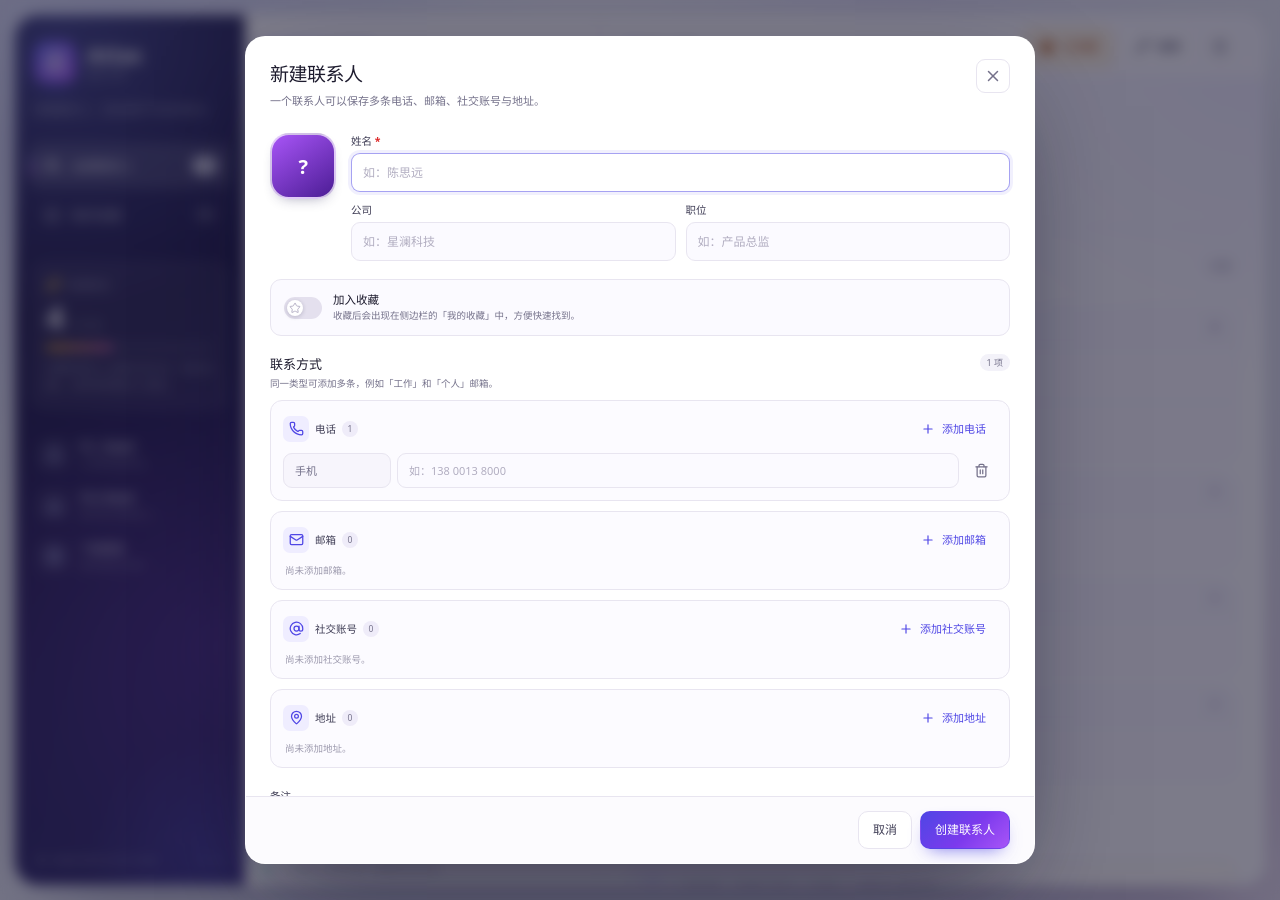
Test case: Atlas address book › creates a contact with a multi-value phone list and persists it
Earlier steps of the test are not shown.
Expected: the heading "新建联系人" is shown, [270, 61, 363, 87]
Type "测试同学" into the field labelled "姓名 *" at [680, 173], box [351, 153, 1010, 192]
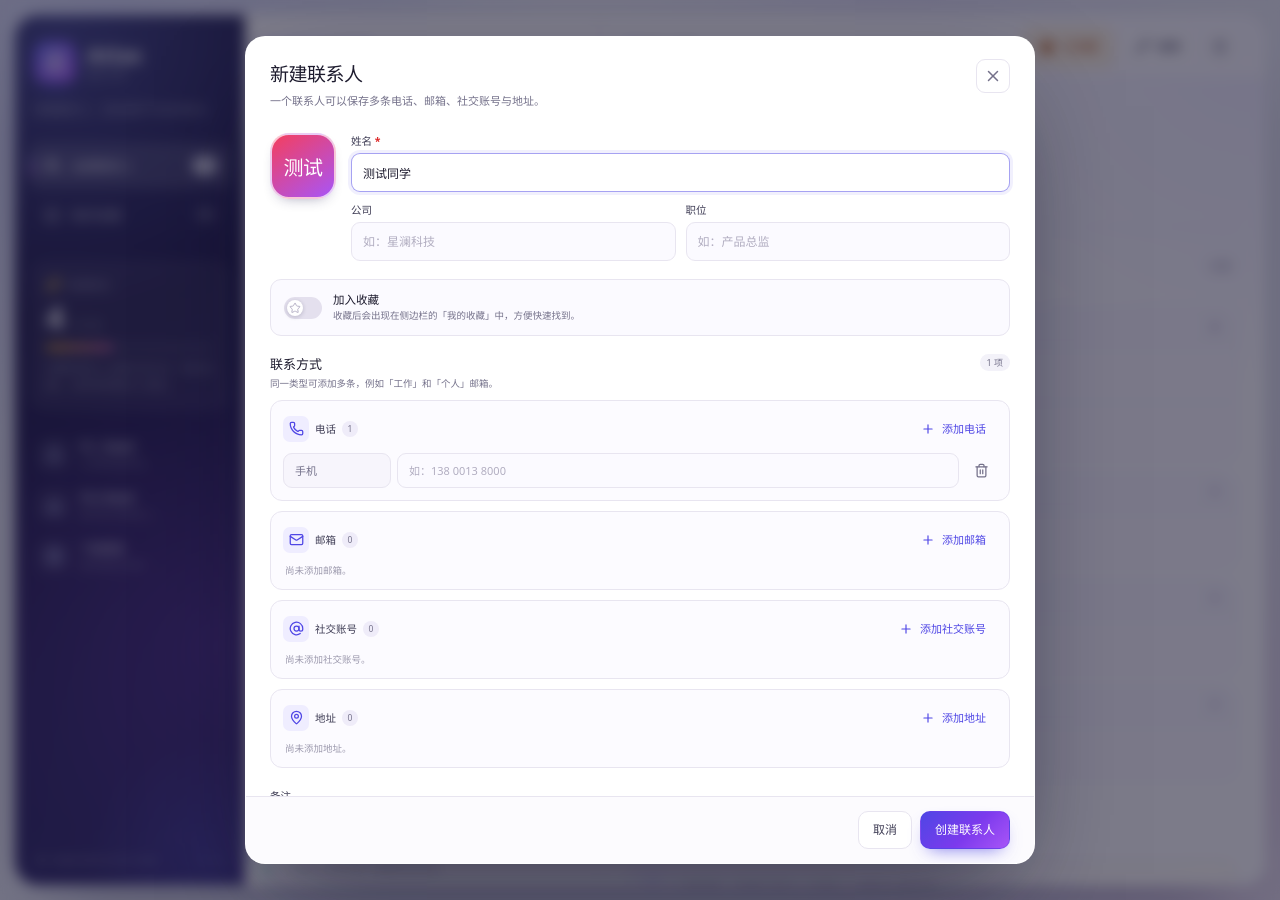
Type "测试公司" into the field labelled "公司" at [513, 242], box [351, 222, 676, 261]
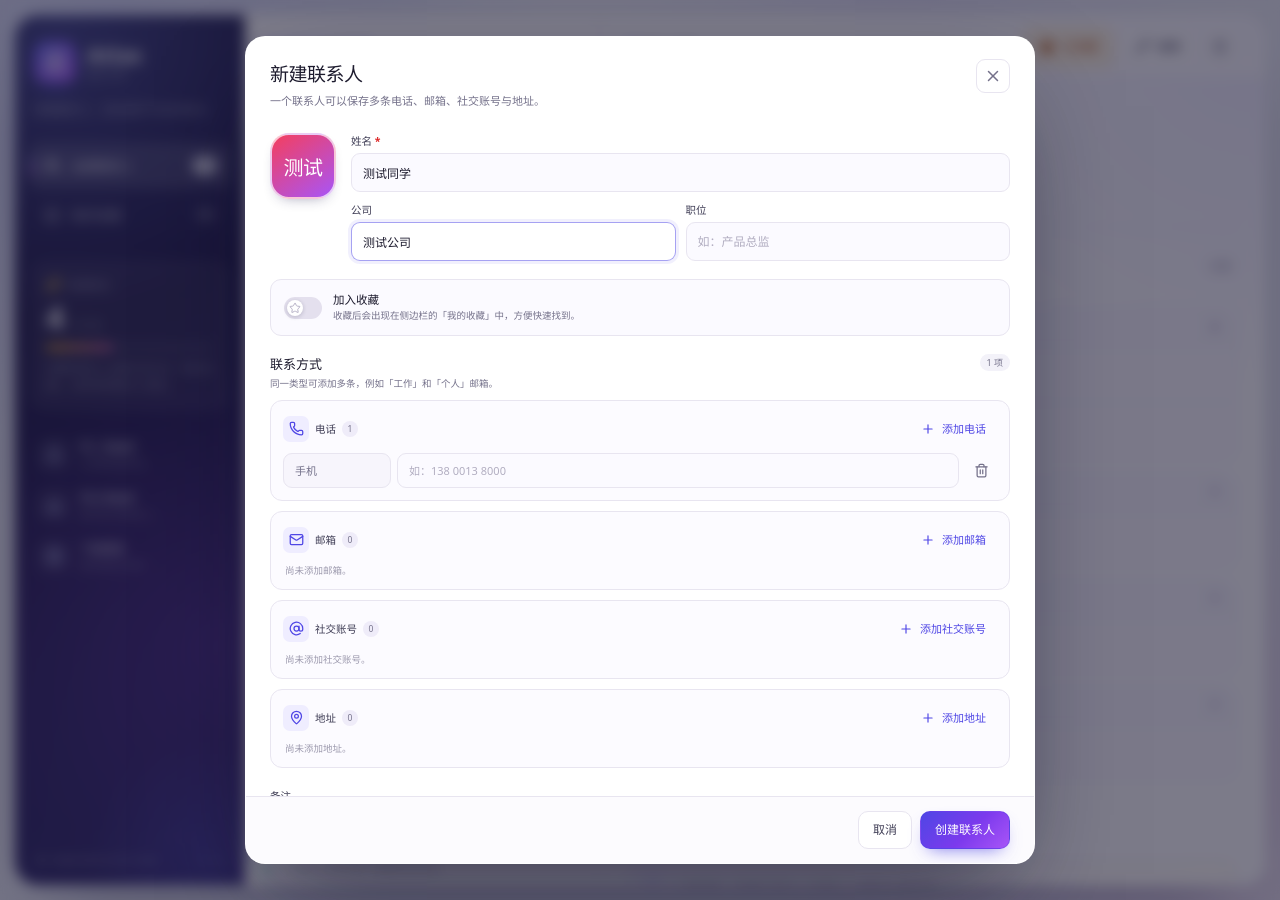
Type "测试工程师" into the field labelled "职位" at [848, 242], box [686, 222, 1010, 261]
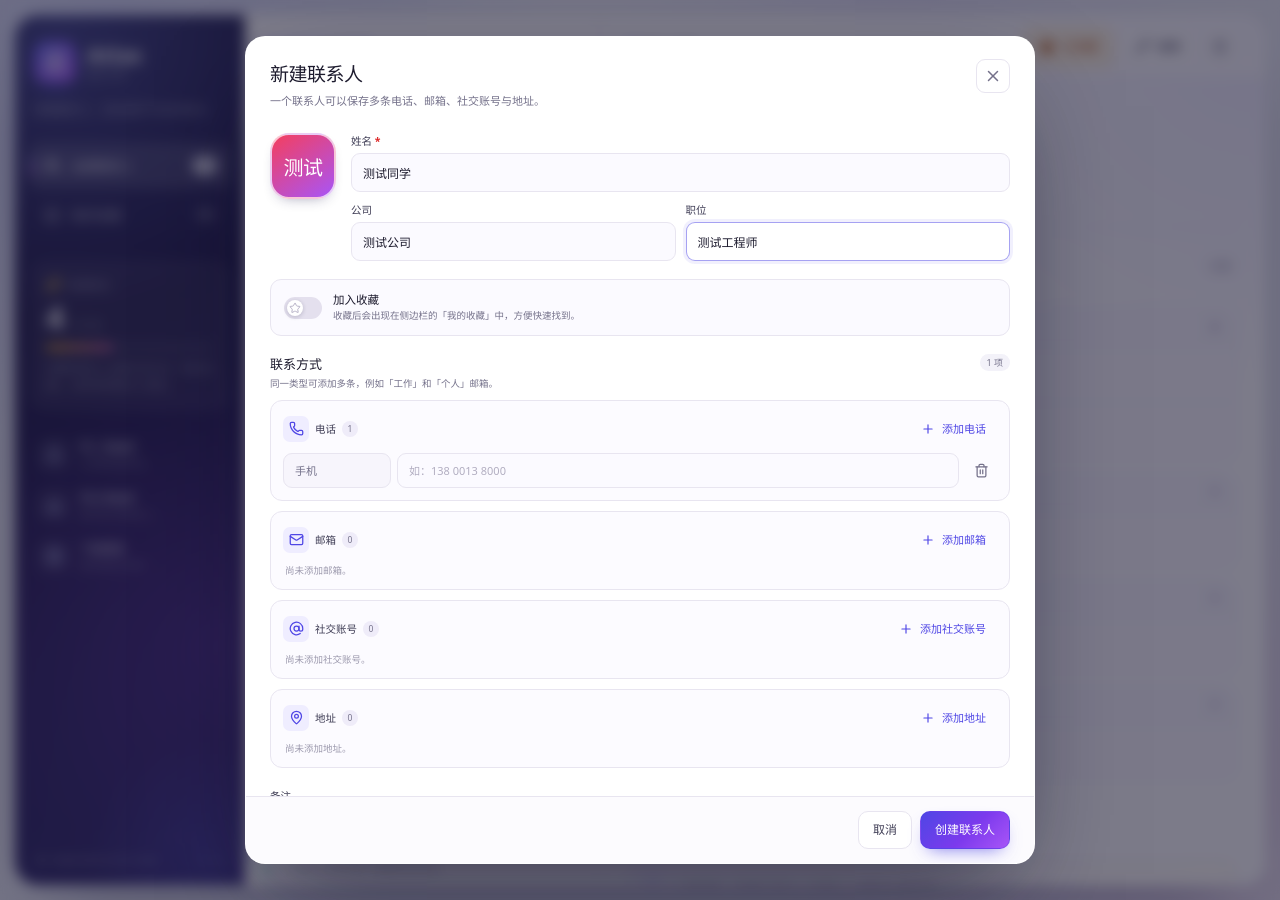
Type "138 1234 5678" into the field named "电话内容" at [678, 470], box [397, 453, 959, 488]
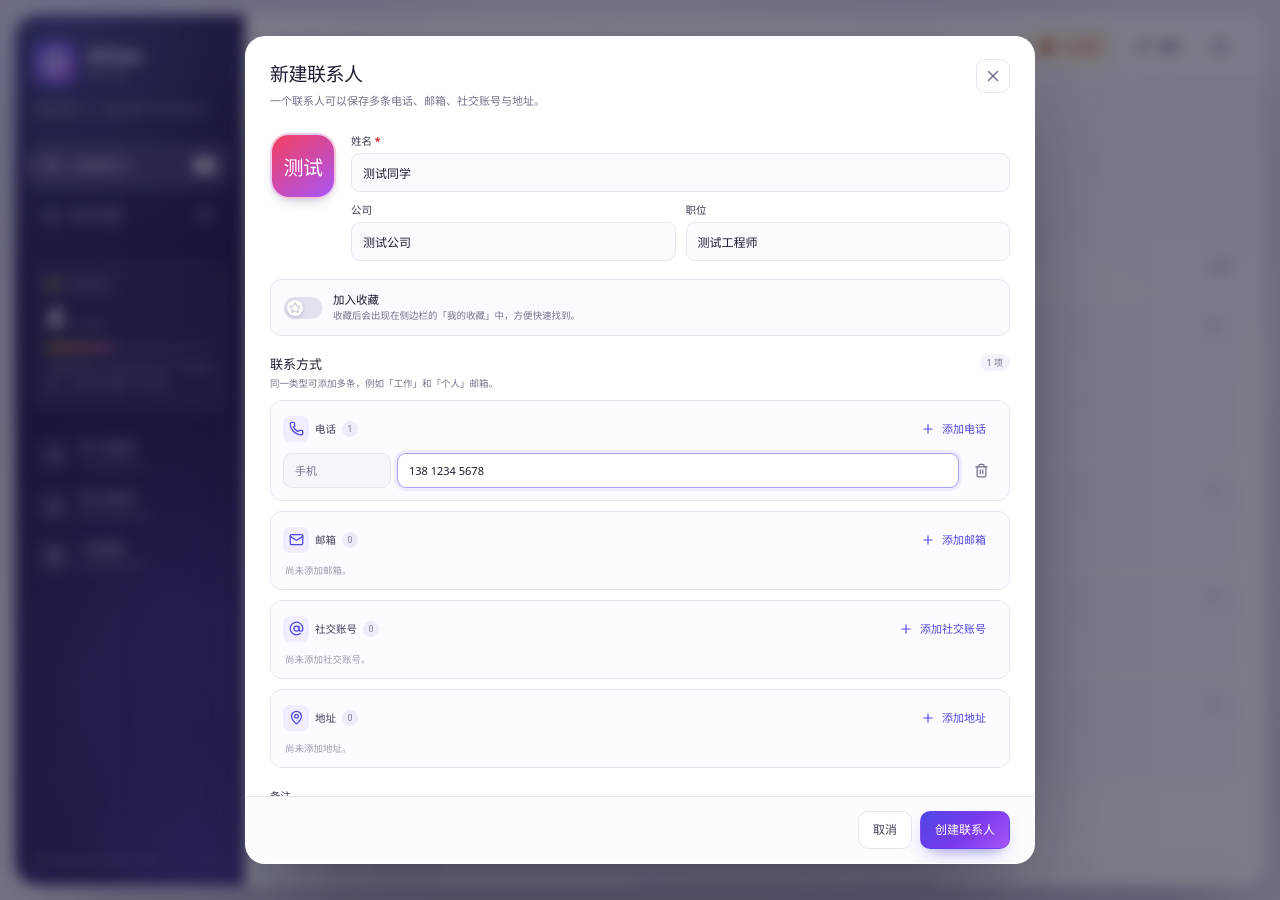
Click the button "添加电话" at [954, 429], box [910, 413, 997, 445]
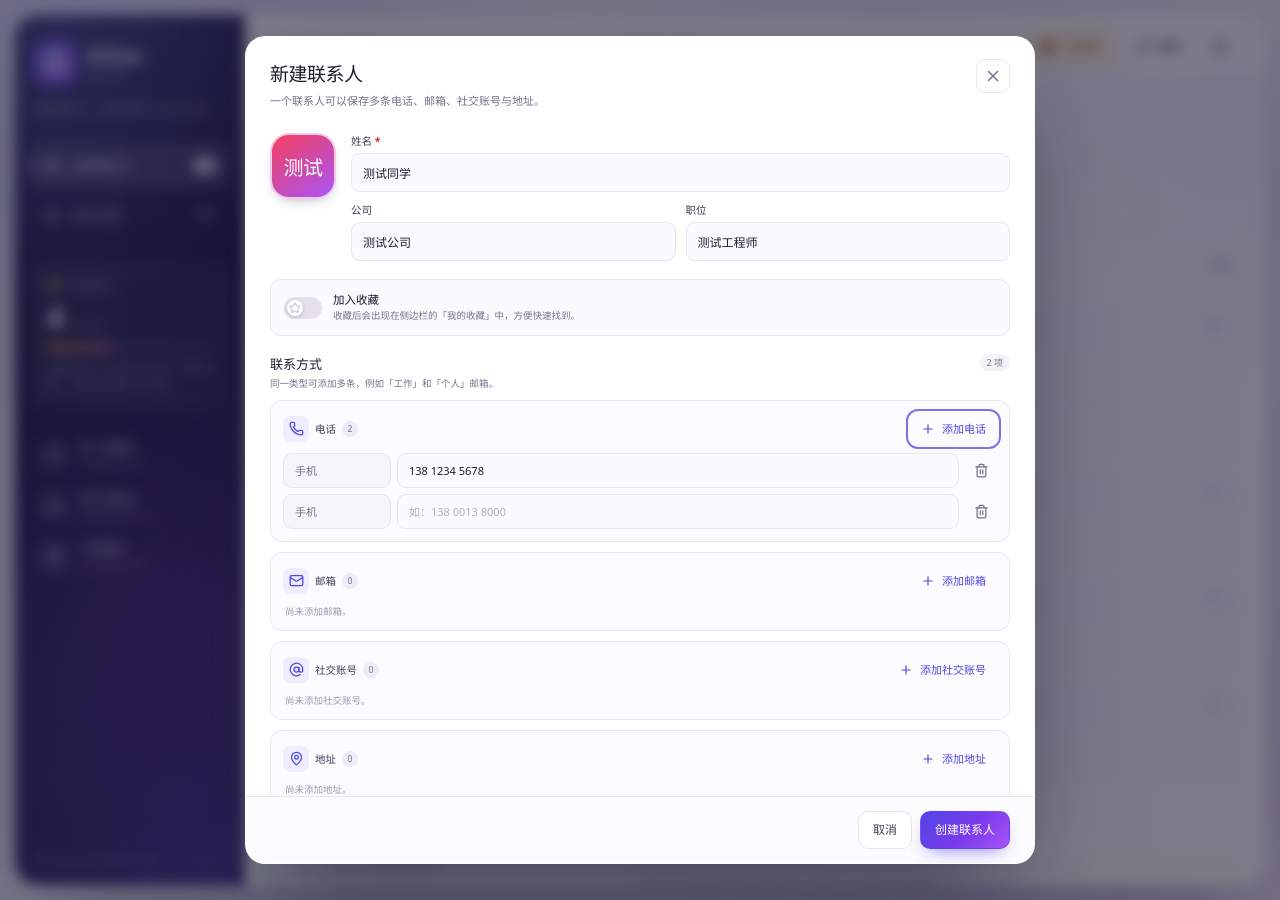
Type "010-6666 8888" into the field named "电话内容" at [678, 511], box [397, 494, 959, 529]
Click the button "创建联系人" at [965, 830], box [920, 811, 1010, 849]
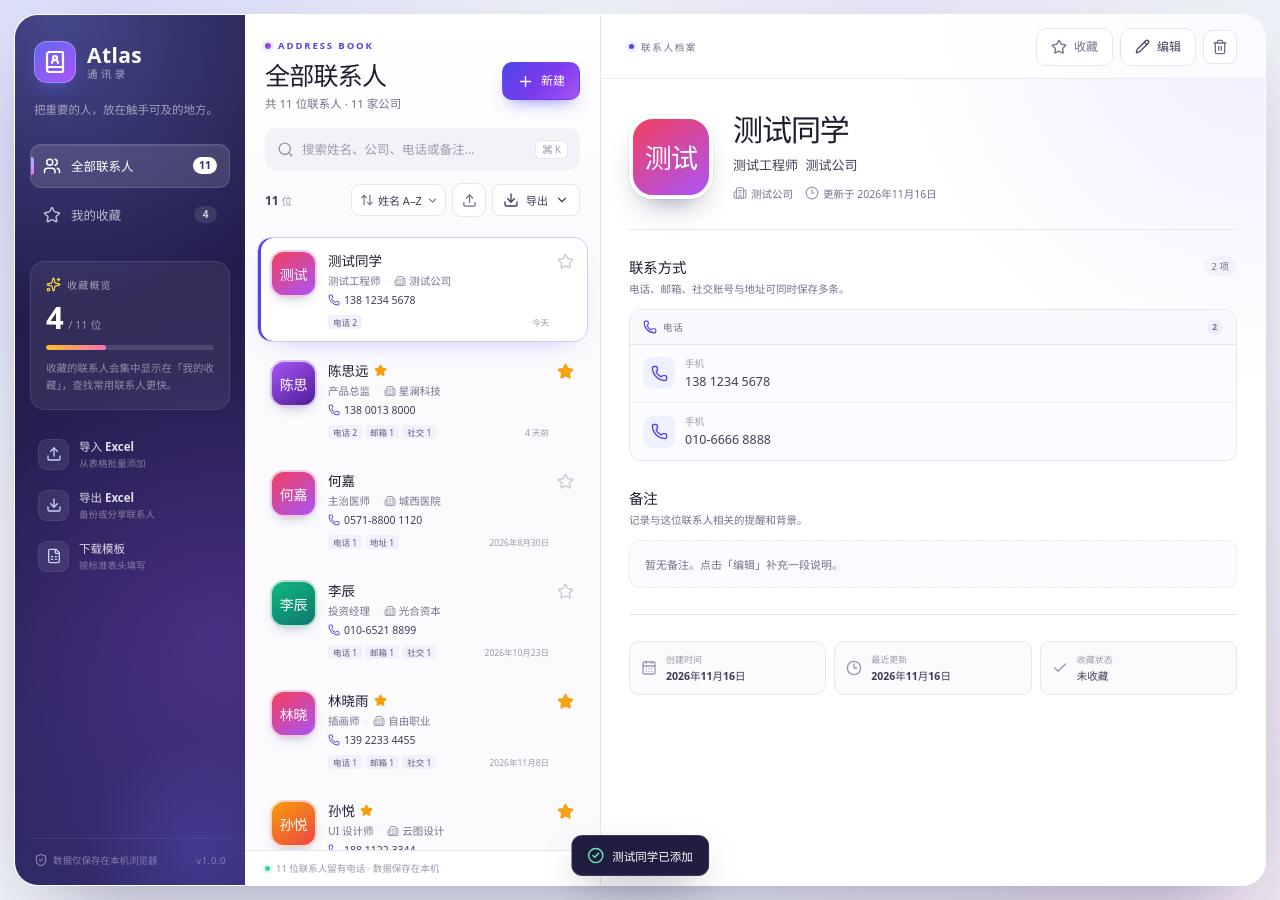
Expected: the heading "测试同学" is shown, [733, 113, 849, 148]
Expected: the text "138 1234 5678" is shown, [328, 293, 416, 307]
Expected: the link "010-6666 8888" is shown, [685, 431, 771, 448]
